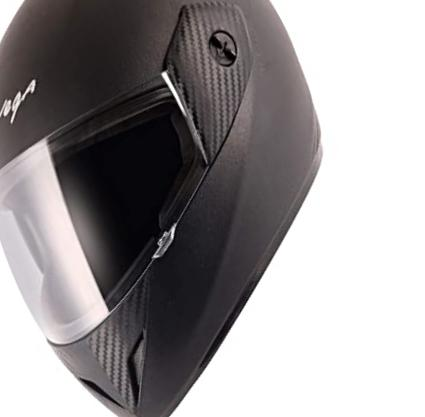helmet: (2, 1, 336, 416)
